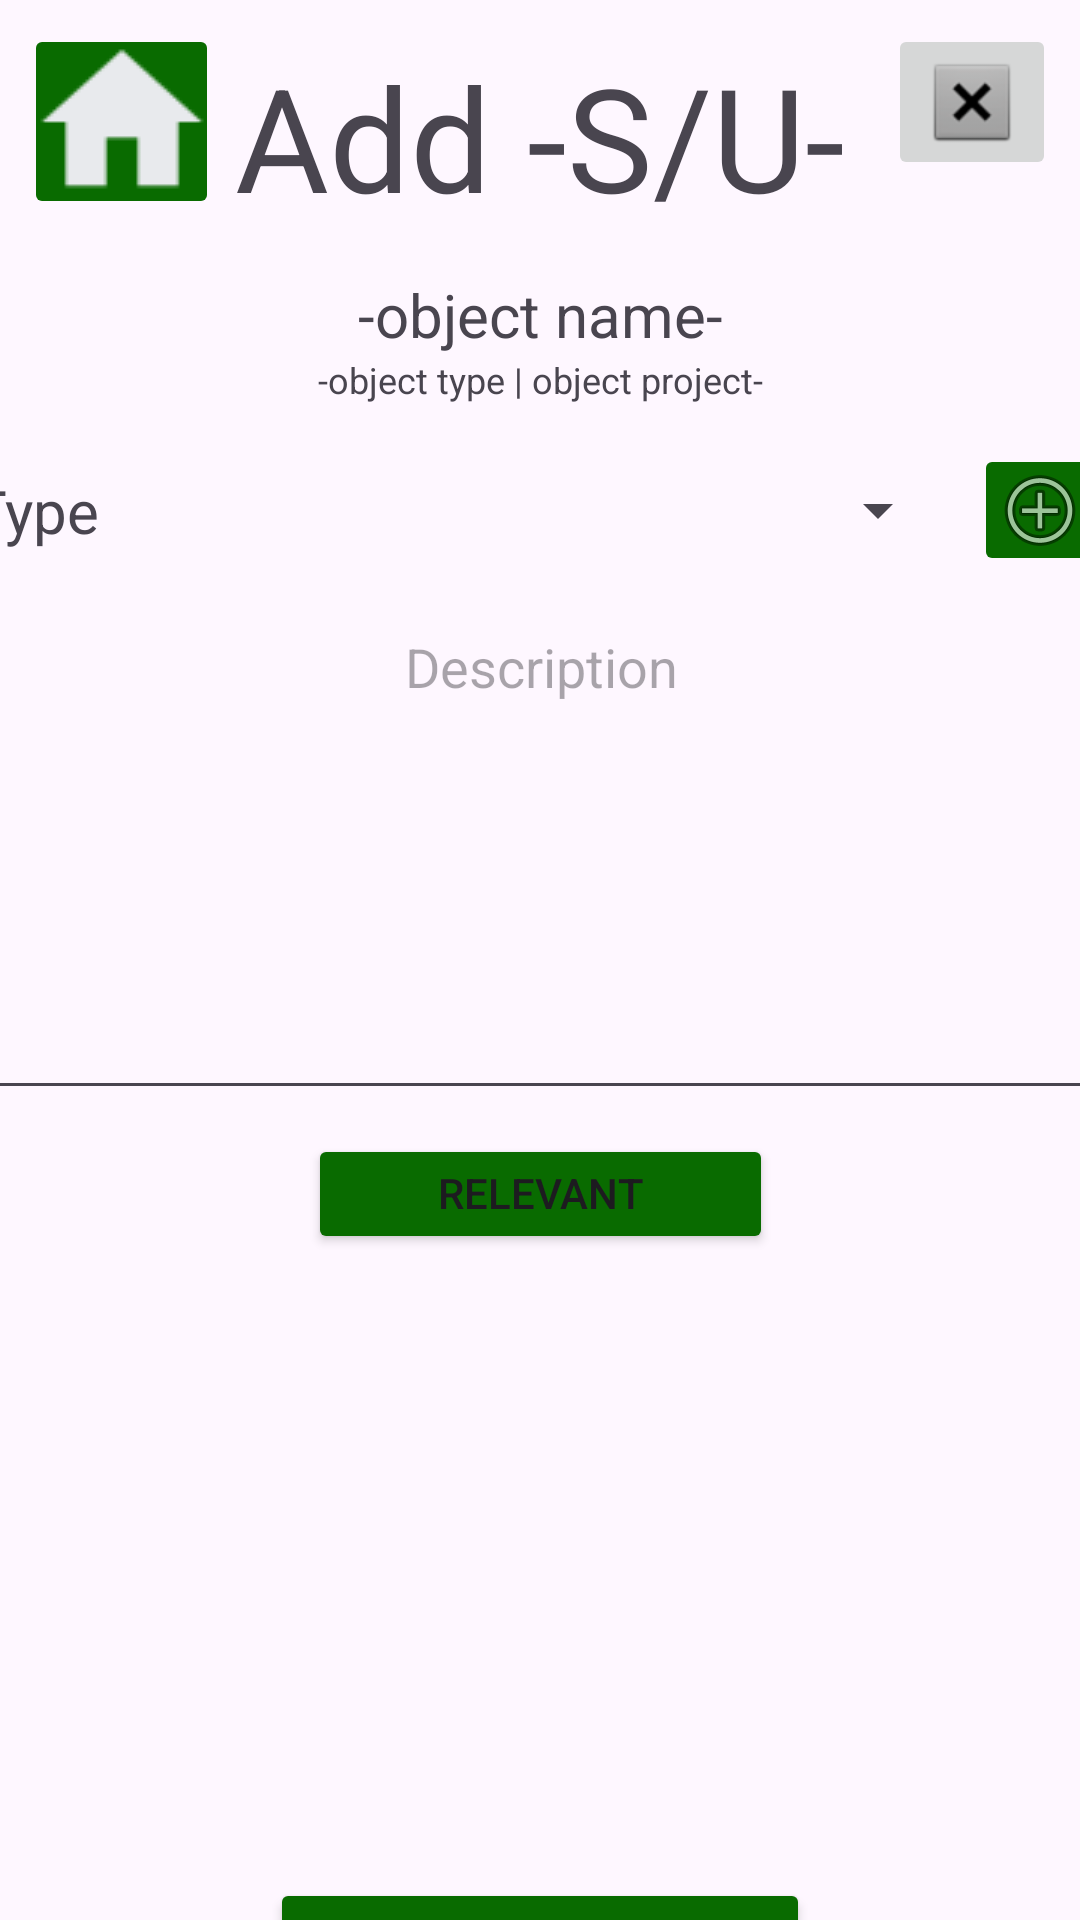

Icons on this 1080px x 1920px Android screen, each with the point to tap as point (x, y):
homebtn: point (121, 121)
